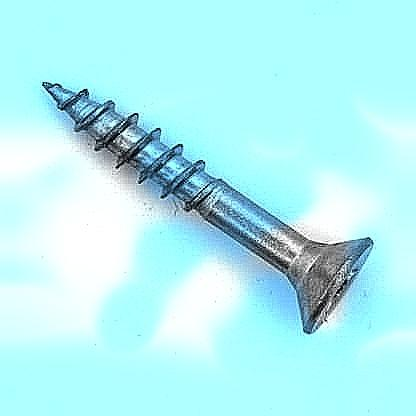metal: (42, 79, 375, 337)
